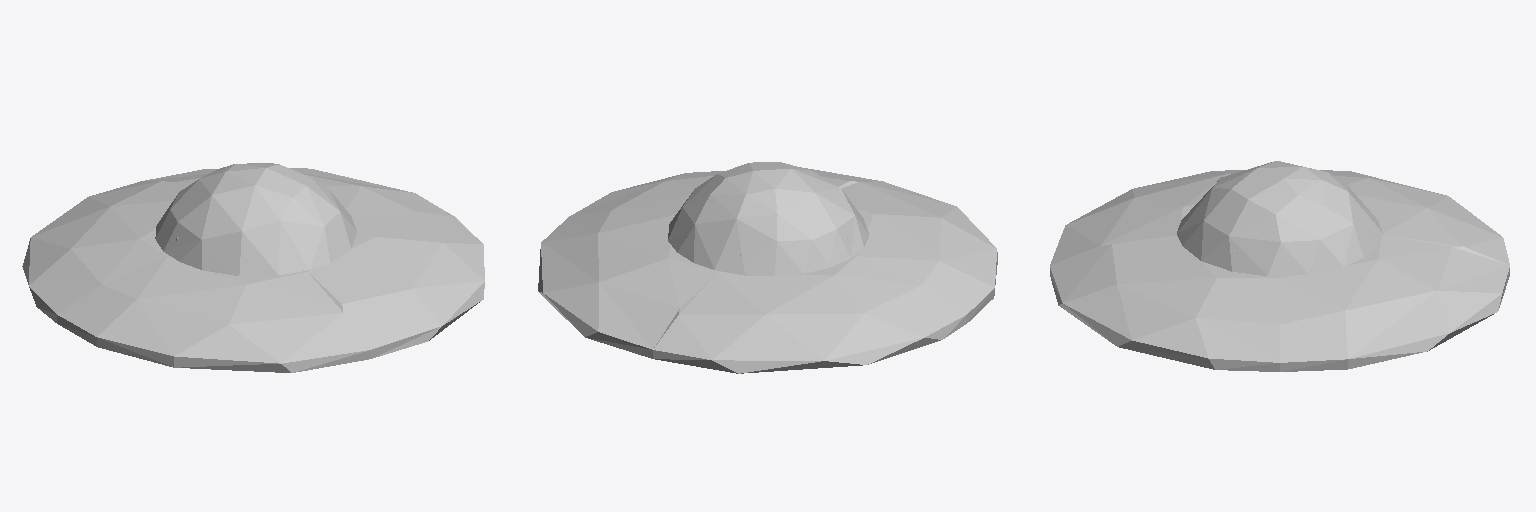
Rendered from Low_poly_UFO.obj.
3 views of the same model, side by side, from view 1: azimuth 30°, elevation 25°; view 2: azimuth 150°, elevation 25°; view 3: azimuth 270°, elevation 25° (orthographic).
Visible parts, largest first — view 1: Low_poly_UFO; view 2: Low_poly_UFO; view 3: Low_poly_UFO.
Part boxes in pixels (bbox=[...]): Low_poly_UFO: bbox=[22, 163, 484, 372]; Low_poly_UFO: bbox=[538, 162, 997, 373]; Low_poly_UFO: bbox=[1050, 161, 1509, 371].
Size of the model in its own units: 3.84 by 1.54 by 3.84.